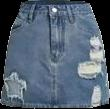Hemline: (0, 101, 109, 108)
Waistline: (22, 1, 88, 5)
